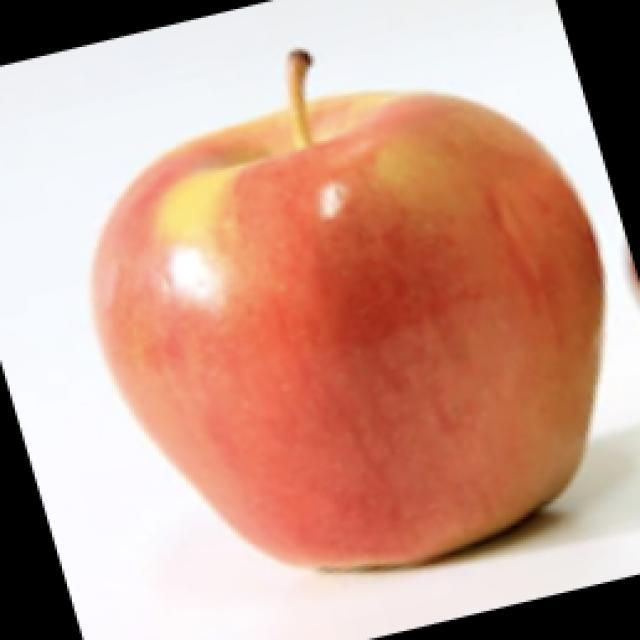Fresh Apple: (106, 93, 606, 572)
